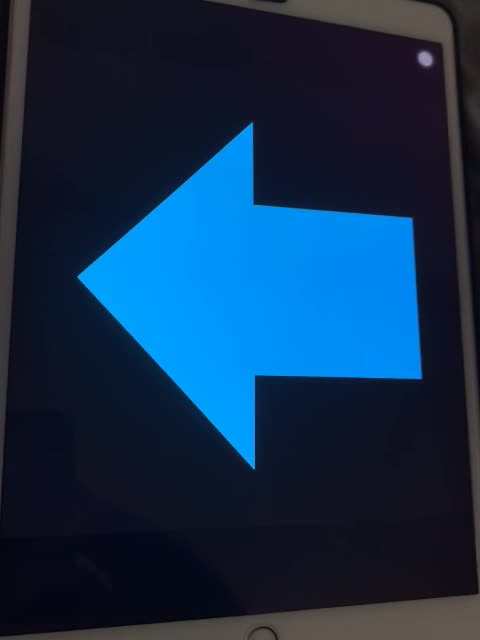left: (70, 116, 427, 484)
